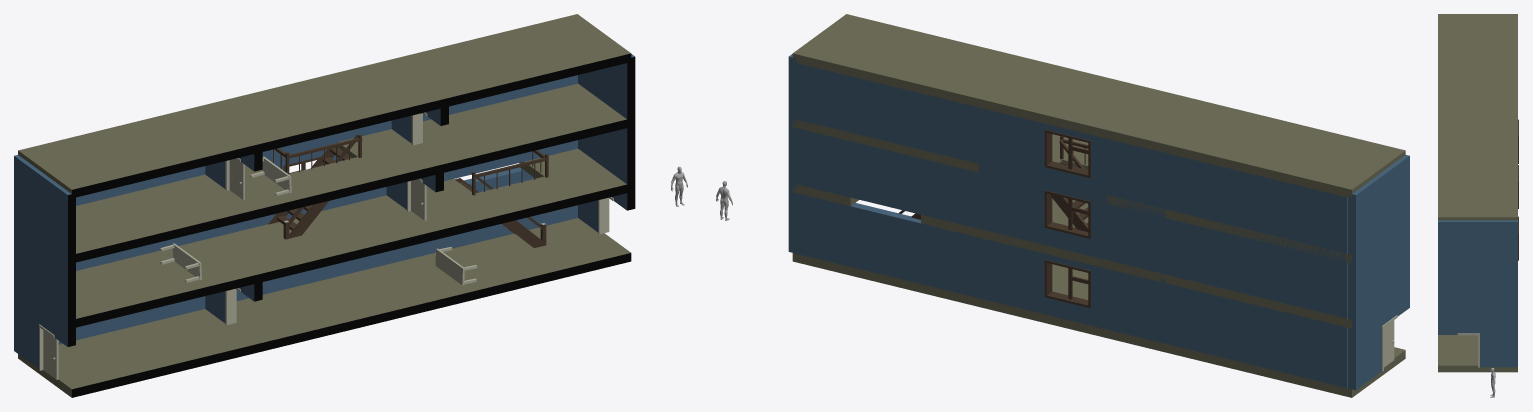
Rendered from _ouse.fbx.
3 renders of one model, left to right at view 1: azimuth 30°, elevation 25°; view 2: azimuth 150°, elevation 25°; view 3: azimuth 270°, elevation 25°, orthographic. The views are drawn at different scales.
Parts seen in each view (by area): view 1: floorRef20, floorRef22, floorRef19, floorRef12, floorRef13, floorRef18, floorWithLedderRef3, floorRef15, floorWithLedderRef4, floorRef14, floorRef17, floorRef16 (+23 smaller); view 2: floorRef20, backWallRef18, floorRef22, floorRef19, backWallRef23, backWallRef22, backWallRef21, backWallWindowRef6, backWallWindowRef8, backWallWindowRef7, backWallRef20, backWallRef19 (+12 smaller); view 3: floorRef19, floorRef22, floorRef20, sideWallRef9, sideWallRef8, sidewallPassageRef7, floorRef14, dummy.
Boxes of the visible parts, x1,y1,x2,y2 form: floorRef20: (18, 105, 258, 198); floorRef22: (205, 59, 444, 152); floorRef19: (391, 14, 631, 106); floorRef12: (18, 309, 258, 397); floorRef13: (232, 262, 444, 352); floorRef18: (418, 83, 627, 172); floorWithLedderRef3: (426, 148, 627, 248); floorRef15: (209, 195, 444, 281); floorWithLedderRef4: (245, 129, 444, 239); floorRef14: (396, 218, 631, 306); floorRef17: (72, 174, 258, 262); floorRef16: (72, 238, 258, 327); floorRef20: (1165, 105, 1405, 198); backWallRef18: (788, 191, 974, 297); floorRef22: (979, 59, 1218, 152); floorRef19: (792, 14, 1032, 107); backWallRef23: (1161, 283, 1347, 387); backWallRef22: (1160, 213, 1347, 318); backWallRef21: (1160, 152, 1347, 257); backWallWindowRef6: (975, 236, 1161, 342); backWallWindowRef8: (975, 106, 1161, 212); backWallWindowRef7: (975, 168, 1161, 273); backWallRef20: (788, 61, 974, 162); backWallRef19: (788, 122, 974, 227); floorRef19: (1438, 149, 1517, 220); floorRef22: (1438, 81, 1517, 149); floorRef20: (1438, 14, 1517, 81); sideWallRef9: (1438, 220, 1517, 270); sideWallRef8: (1438, 270, 1517, 318); sidewallPassageRef7: (1438, 318, 1517, 367); floorRef14: (1438, 335, 1517, 372); dummy: (1490, 368, 1495, 397).
Bounding box in the file's own units: 31.74 × 9.68 × 4.55.
